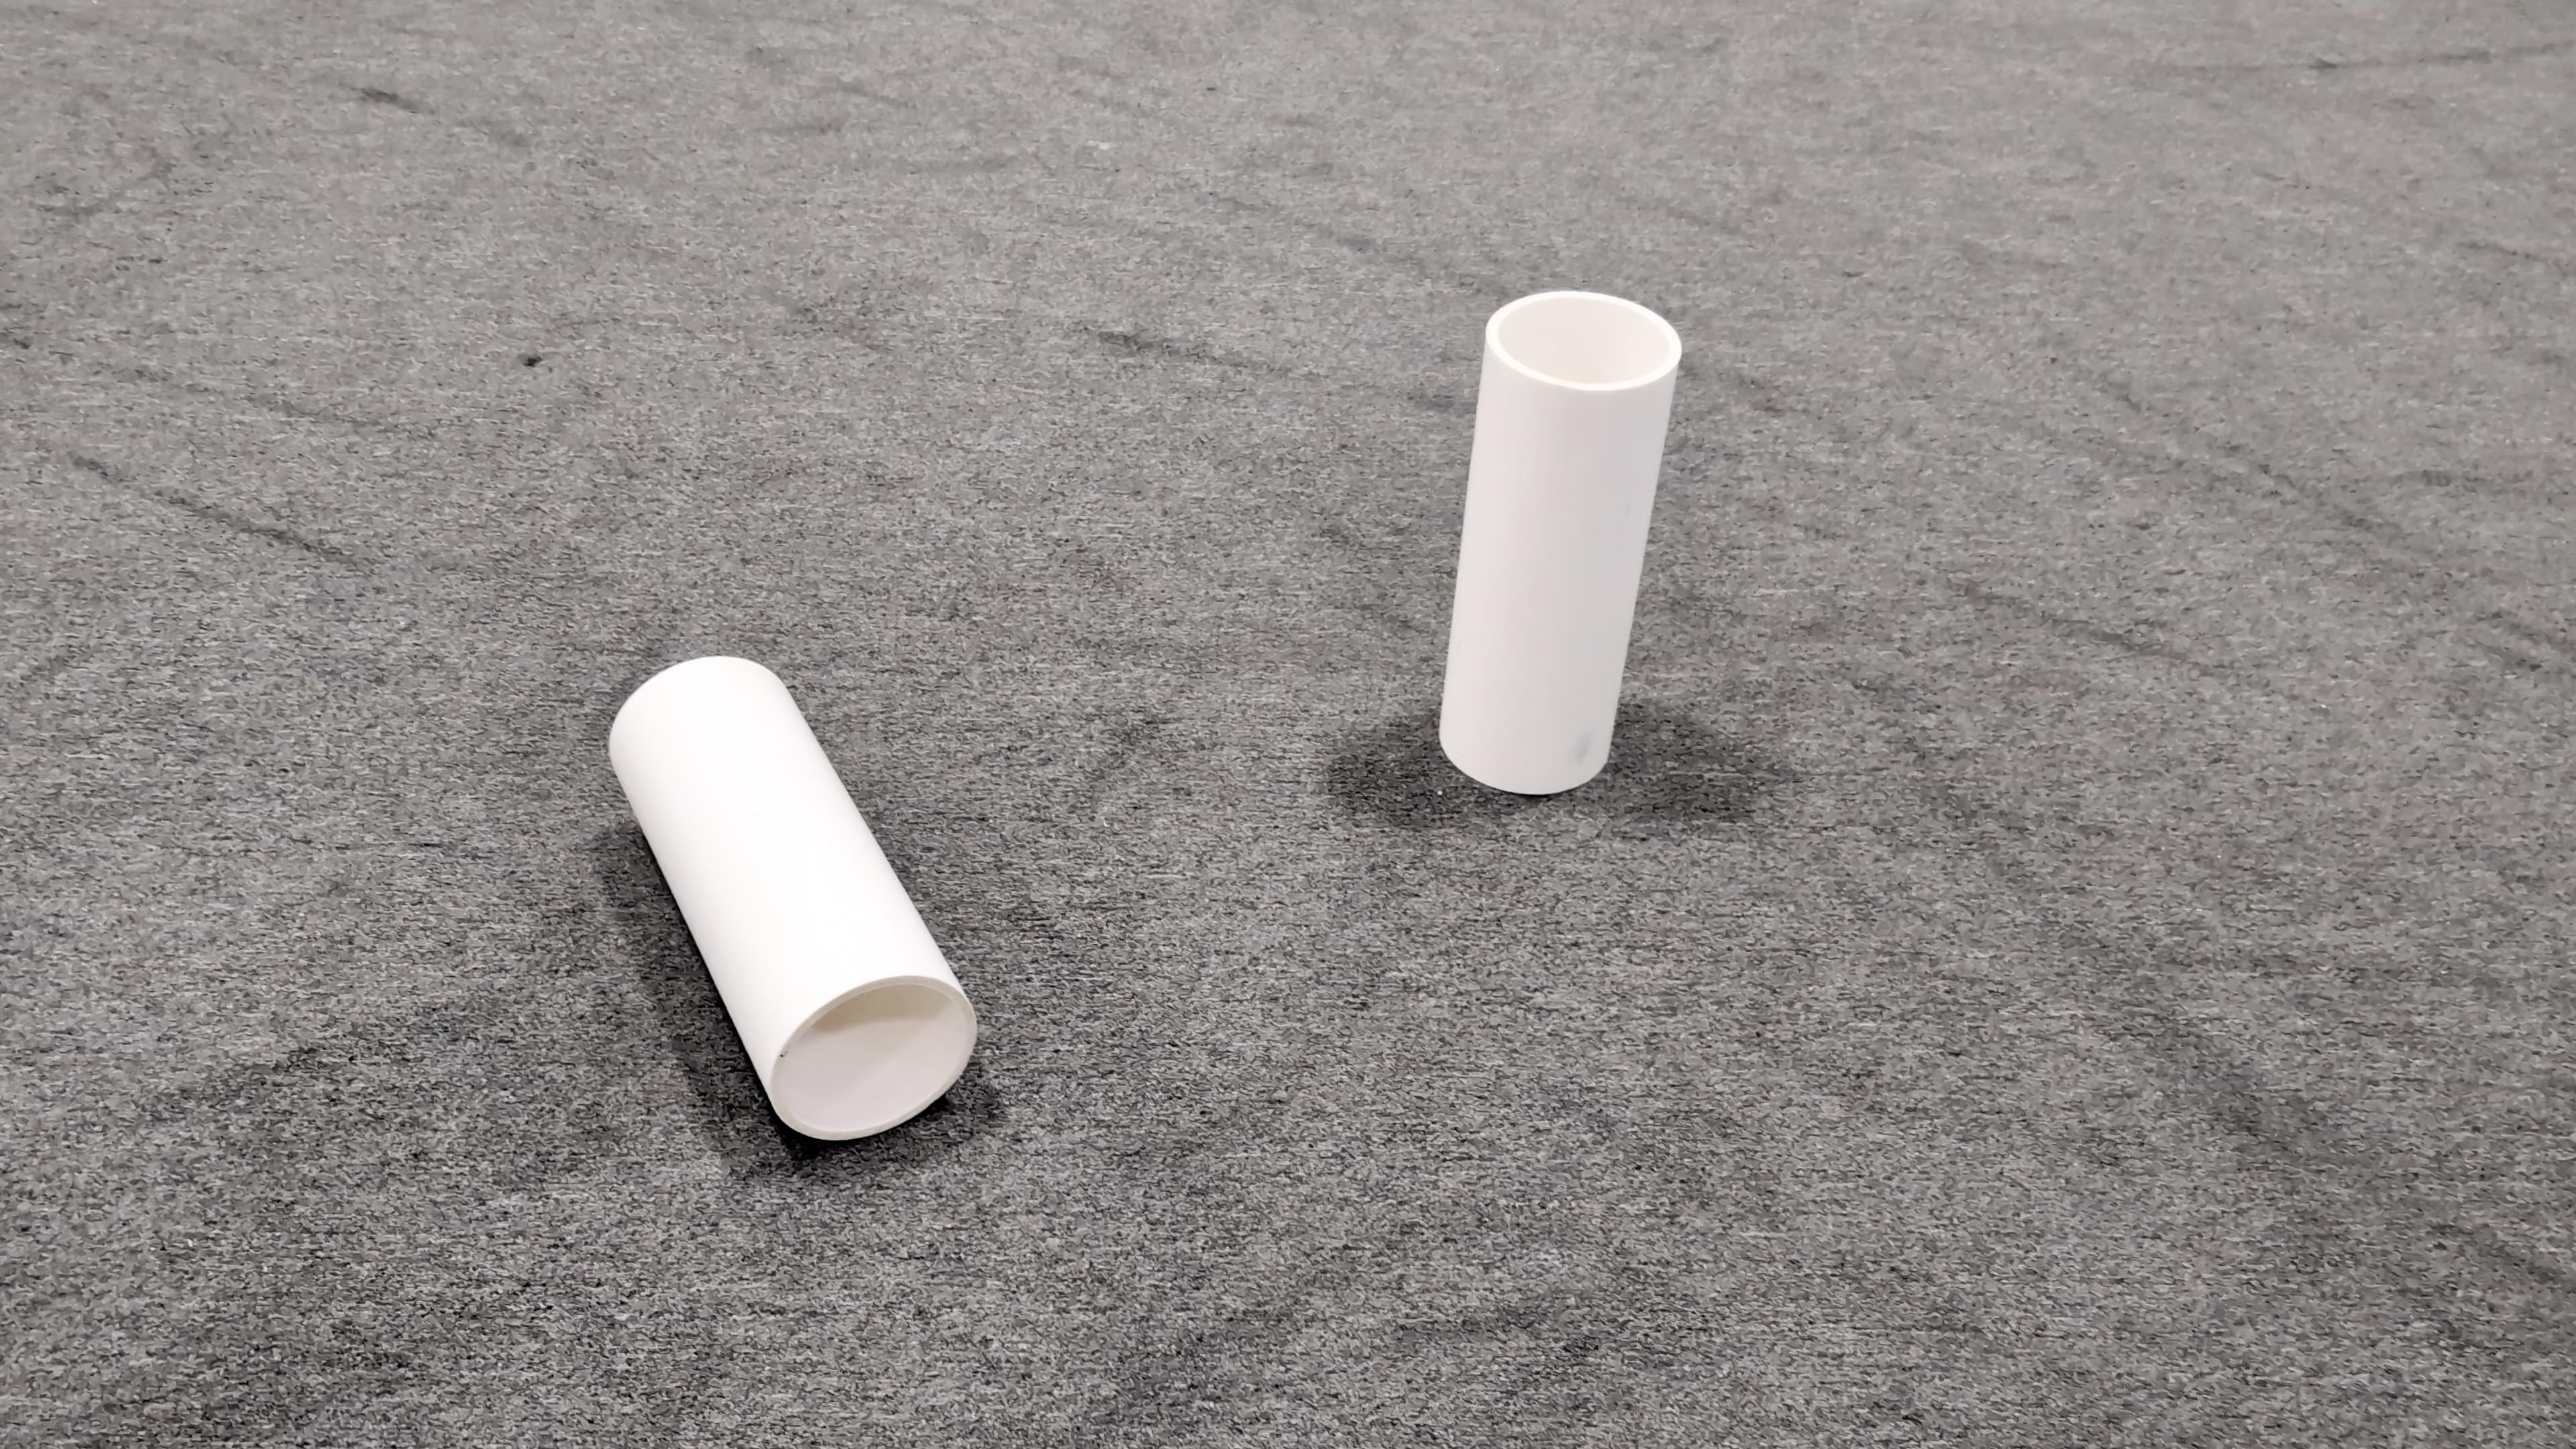coral: (605, 651, 980, 1141), (1433, 287, 1684, 791)
